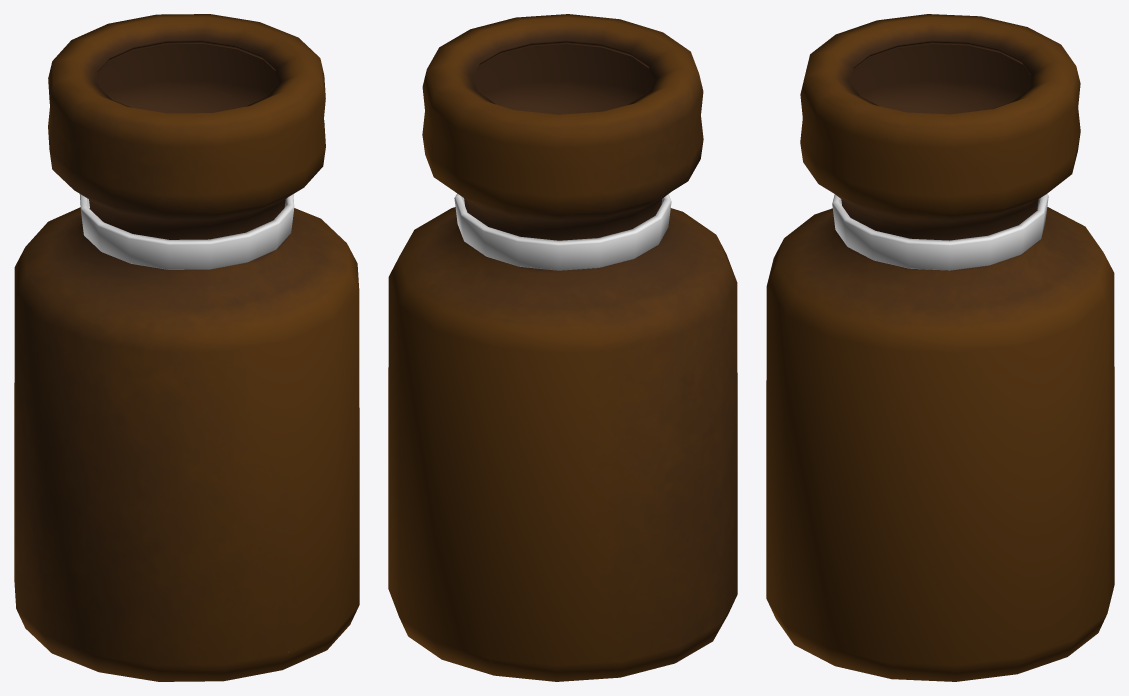
The model's file is DrugsBottleB.fbx.
The picture shows the model from 3 angles, left to right: view 1: azimuth 30°, elevation 25°; view 2: azimuth 150°, elevation 25°; view 3: azimuth 270°, elevation 25°; orthographic projection.
Parts seen in each view (by area): view 1: DrugsBottleB; view 2: DrugsBottleB; view 3: DrugsBottleB.
Boxes of the visible parts, <box> form: DrugsBottleB: <box>14,14,359,681</box>; DrugsBottleB: <box>388,14,737,681</box>; DrugsBottleB: <box>766,14,1114,681</box>.
Bounding box in the file's own units: 5.31 × 9.24 × 5.31.
